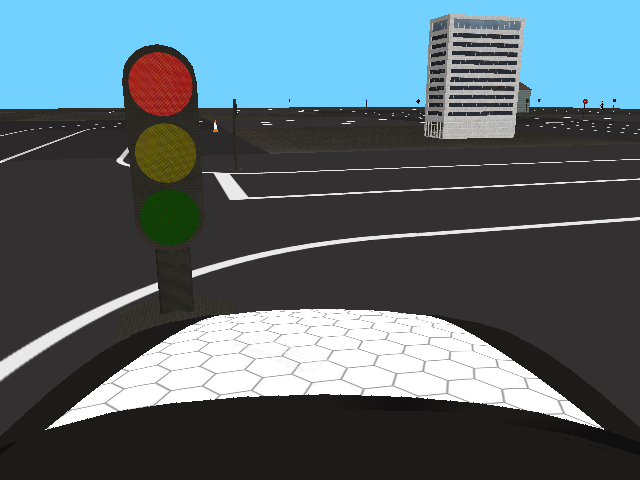red_light: (122, 43, 207, 252)
